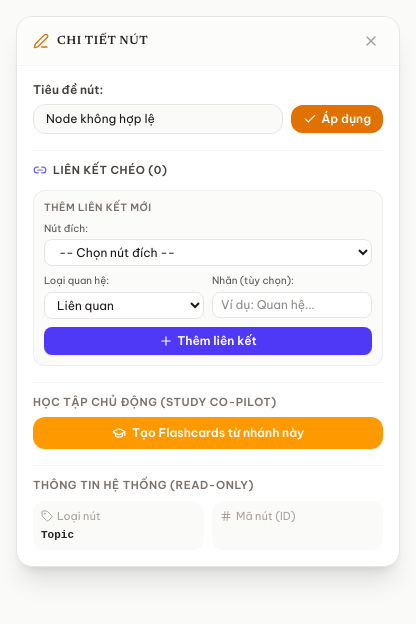
Scenario: Commit 5: Prevent Duplicate Flashcard Creation › Scenario: Thiếu topicId hoặc nodeId phải chặn › blocks flashcard creation and displays invalid data error when topicId or nodeId is missing
Step 1. Click the button with test id "btn-create-flashcard-from-branch" → (208, 433), box [33,417,383,449]
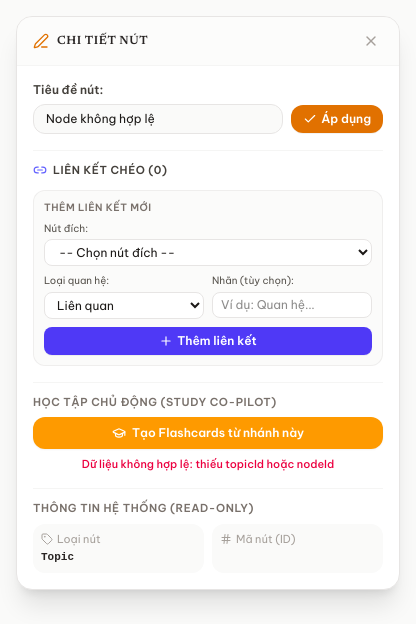
Check: the text with test id "flashcard-export-feedback" shows "thiếu topicId hoặc nodeId", box [82,457,334,471]
